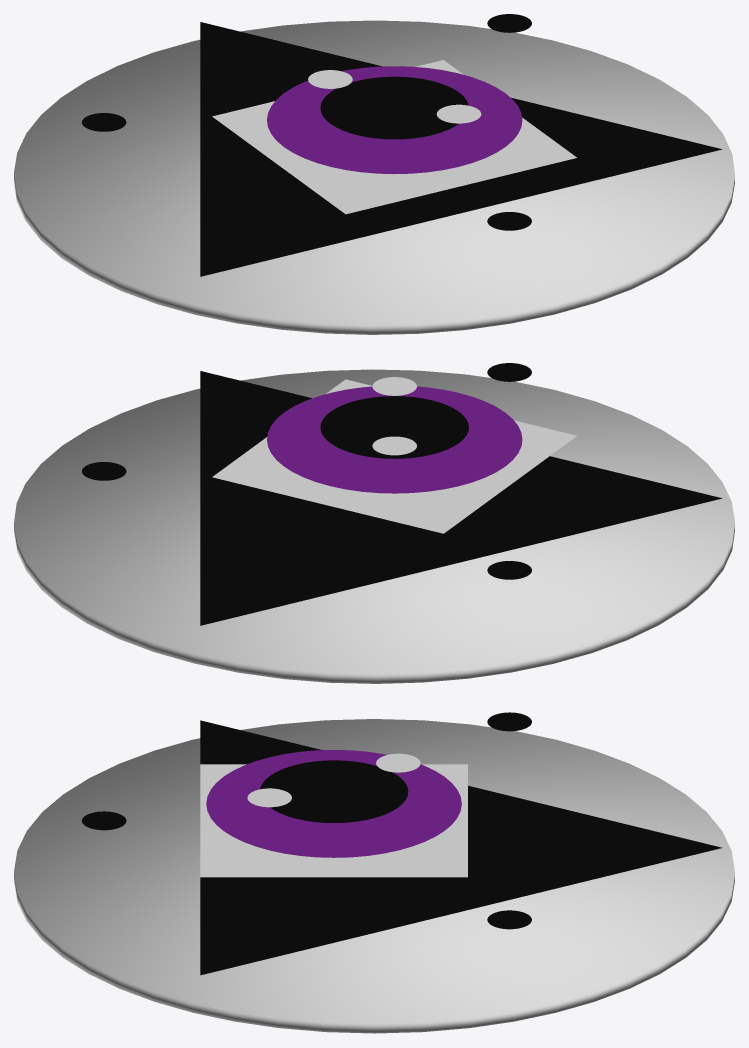
The model's file is RangerMauve.glb.
The picture shows the model from 3 angles, top to bottom: view 1: azimuth 30°, elevation 25°; view 2: azimuth 150°, elevation 25°; view 3: azimuth 270°, elevation 25°; orthographic projection.
Parts seen in each view (by area): view 1: Outline, Triangle, Iris, Square, Pupil, Below, TopRightCircle, ButtomCircle, TopLeftCircle, Above; view 2: Outline, Triangle, Iris, Square, Pupil, Above, Below, ButtomCircle, TopLeftCircle, TopRightCircle; view 3: Outline, Triangle, Iris, Square, Pupil, Below, Above, TopRightCircle, ButtomCircle, TopLeftCircle.
Boxes of the visible parts, x1=… form: Outline: x1=14, y1=20, x2=734, y2=334; Triangle: x1=200, y1=22, x2=721, y2=276; Iris: x1=267, y1=66, x2=522, y2=174; Square: x1=212, y1=60, x2=576, y2=214; Pupil: x1=320, y1=76, x2=468, y2=139; Below: x1=436, y1=104, x2=481, y2=123; TopRightCircle: x1=487, y1=14, x2=531, y2=32; ButtomCircle: x1=487, y1=212, x2=531, y2=230; TopLeftCircle: x1=82, y1=113, x2=126, y2=131; Above: x1=308, y1=70, x2=352, y2=88; Outline: x1=14, y1=369, x2=734, y2=683; Triangle: x1=200, y1=371, x2=722, y2=625; Iris: x1=267, y1=386, x2=522, y2=493; Square: x1=212, y1=379, x2=576, y2=533; Pupil: x1=320, y1=396, x2=468, y2=458; Above: x1=372, y1=436, x2=416, y2=455; Below: x1=372, y1=377, x2=416, y2=395; ButtomCircle: x1=487, y1=363, x2=531, y2=381; TopLeftCircle: x1=487, y1=561, x2=531, y2=579; TopRightCircle: x1=82, y1=462, x2=126, y2=480; Outline: x1=14, y1=719, x2=734, y2=1033; Triangle: x1=200, y1=720, x2=722, y2=975; Iris: x1=206, y1=750, x2=461, y2=857; Square: x1=200, y1=764, x2=467, y2=877; Pupil: x1=260, y1=760, x2=408, y2=822; Below: x1=247, y1=788, x2=291, y2=807; Above: x1=376, y1=753, x2=420, y2=772; TopRightCircle: x1=487, y1=910, x2=531, y2=929; ButtomCircle: x1=82, y1=811, x2=126, y2=830; TopLeftCircle: x1=487, y1=712, x2=531, y2=731.
Bounding box in the file's own units: 0.6936 × 0.1085 × 0.6934.
